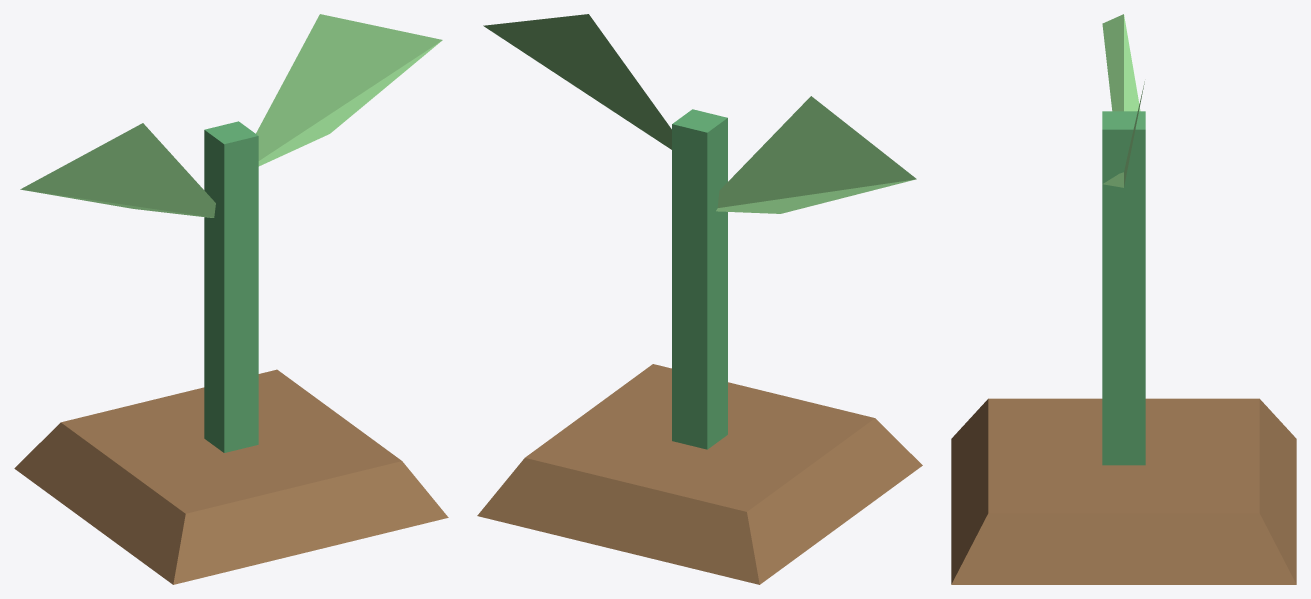
Rendered from sprout-marker.gltf.
The picture shows the model from 3 angles, left to right: view 1: azimuth 30°, elevation 25°; view 2: azimuth 150°, elevation 25°; view 3: azimuth 270°, elevation 25°; orthographic projection. The views are drawn at different scales.
Visible parts, largest first — view 1: Sprout Marker; view 2: Sprout Marker; view 3: Sprout Marker.
Boxes of the visible parts, x1,y1,x2,y2 form: Sprout Marker: (14, 14, 448, 584); Sprout Marker: (477, 14, 922, 584); Sprout Marker: (951, 14, 1296, 584).
Bounding box in the file's own units: 0.86 × 0.87 × 0.56.
